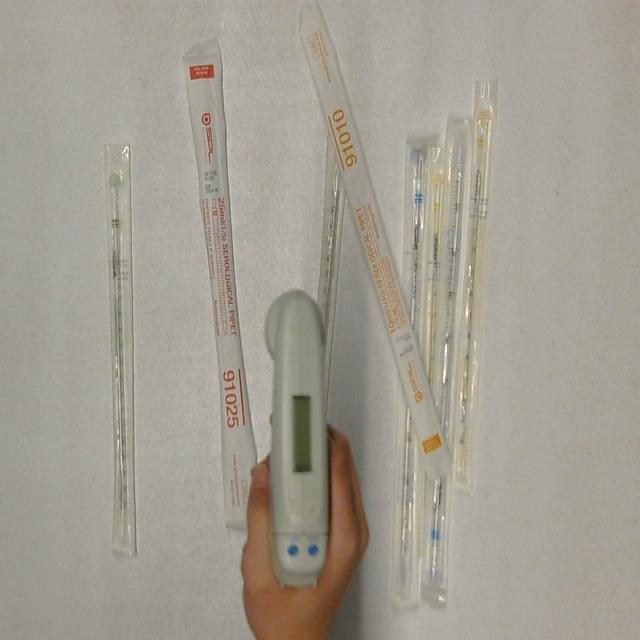Pipette Controller: (254, 284, 336, 596)
Serelogical Pipet 1 mL - Sealed: (449, 79, 503, 494), (417, 144, 454, 396)
Serelogical Pipet 10 mL - Sealed: (296, 0, 458, 485)
Serelogical Pipet 2 mL - Sealed: (106, 141, 139, 560)
Serelogical Pipet 25 mL - Sealed: (182, 35, 265, 534)
Serelogical Pipet 5 mL - Sealed: (420, 114, 476, 592), (389, 128, 435, 611)
